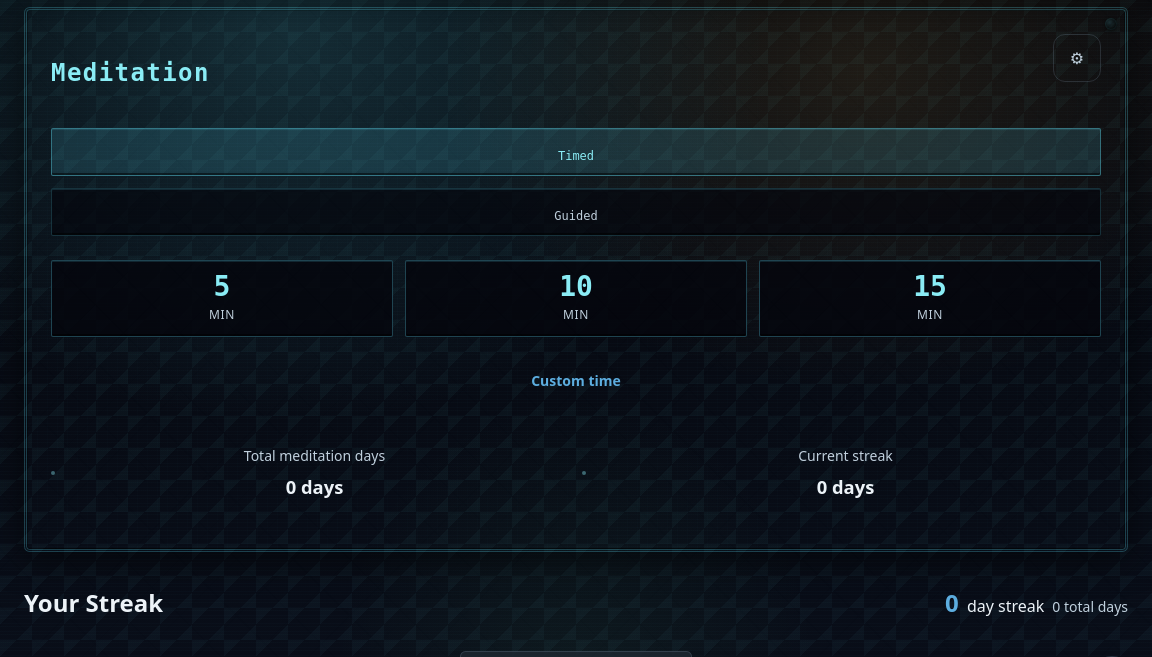
Scenario: dashboard timer settings › dashboard timer starts in-place and records completion
(page scrolled)
Expected: the element with test id "meditation-presets" is shown, [51, 260, 1101, 337]
Click the button with test id "meditation-preset-5" at (222, 299), box [51, 260, 393, 337]
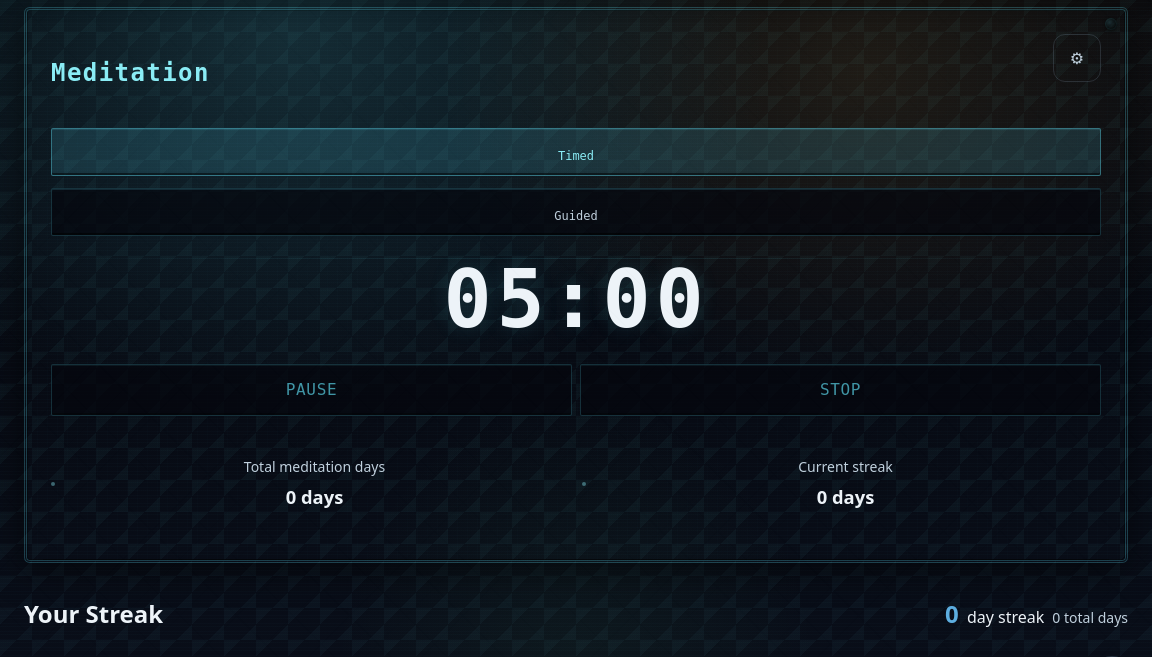
Expected: the element with test id "dashboard-meditation-timer" is shown, [51, 128, 1101, 416]
Expected: the text "05:00" is shown, [444, 253, 708, 346]
